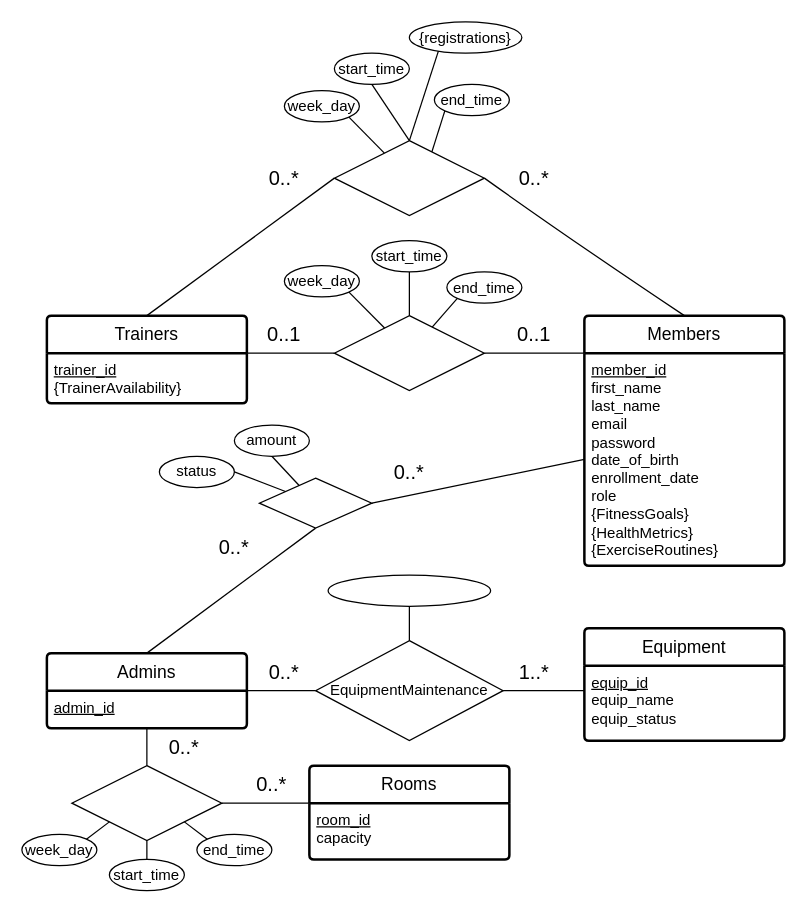
This 808x913 diagram has some shape labels left out. The shapes that lost their labels are listed below. From the top down, each one's centre as x and y in pixels, then its label:
At [408,177]: "GroupClasses".
At [408,352]: "TrainingSessions".
At [315,502]: "Bills".
At [409,590]: "maintenance_date".
At [146,802]: "RoomBookings".
